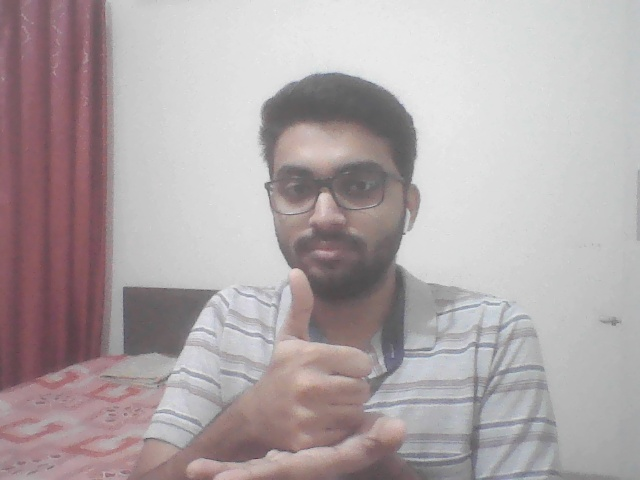help: (213, 249, 414, 474)
